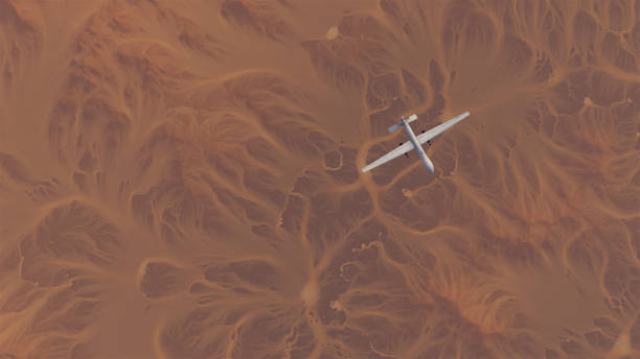military drone: (361, 110, 470, 175)
